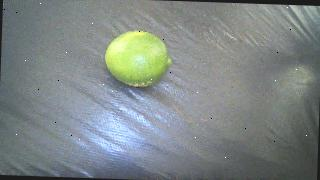DESECHO: (105, 30, 173, 88)
